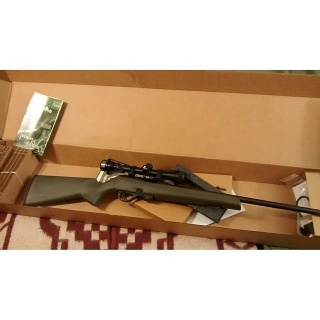rifle: (22, 156, 320, 216)
